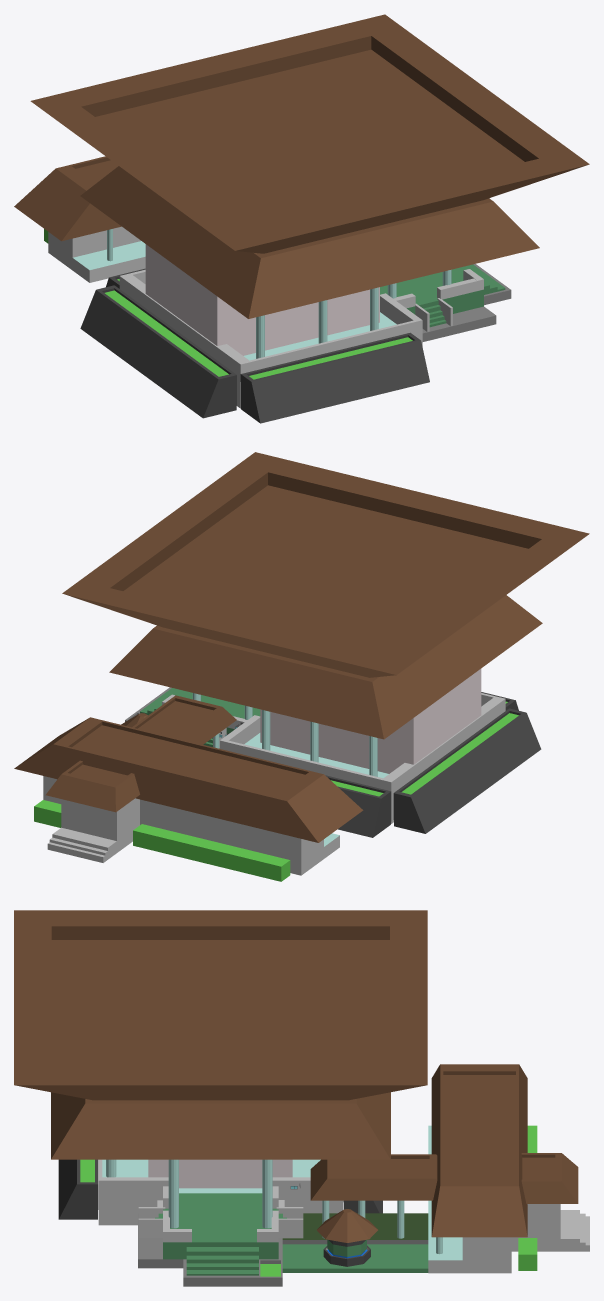
The model's file is Masjid Al-Hikmah.fbx.
3 views of the same model, one above another, from view 1: azimuth 30°, elevation 25°; view 2: azimuth 150°, elevation 25°; view 3: azimuth 270°, elevation 25° (orthographic). The views are drawn at different scales.
Parts seen in each view (by area): view 1: Cube; view 2: Cube; view 3: Cube.
Part boxes in pixels (x1,y1,x2,y2): Cube: (14,14,589,423); Cube: (14,452,589,881); Cube: (14,910,589,1286).
Bounding box in the file's own units: 5188 × 2759 × 7118.
